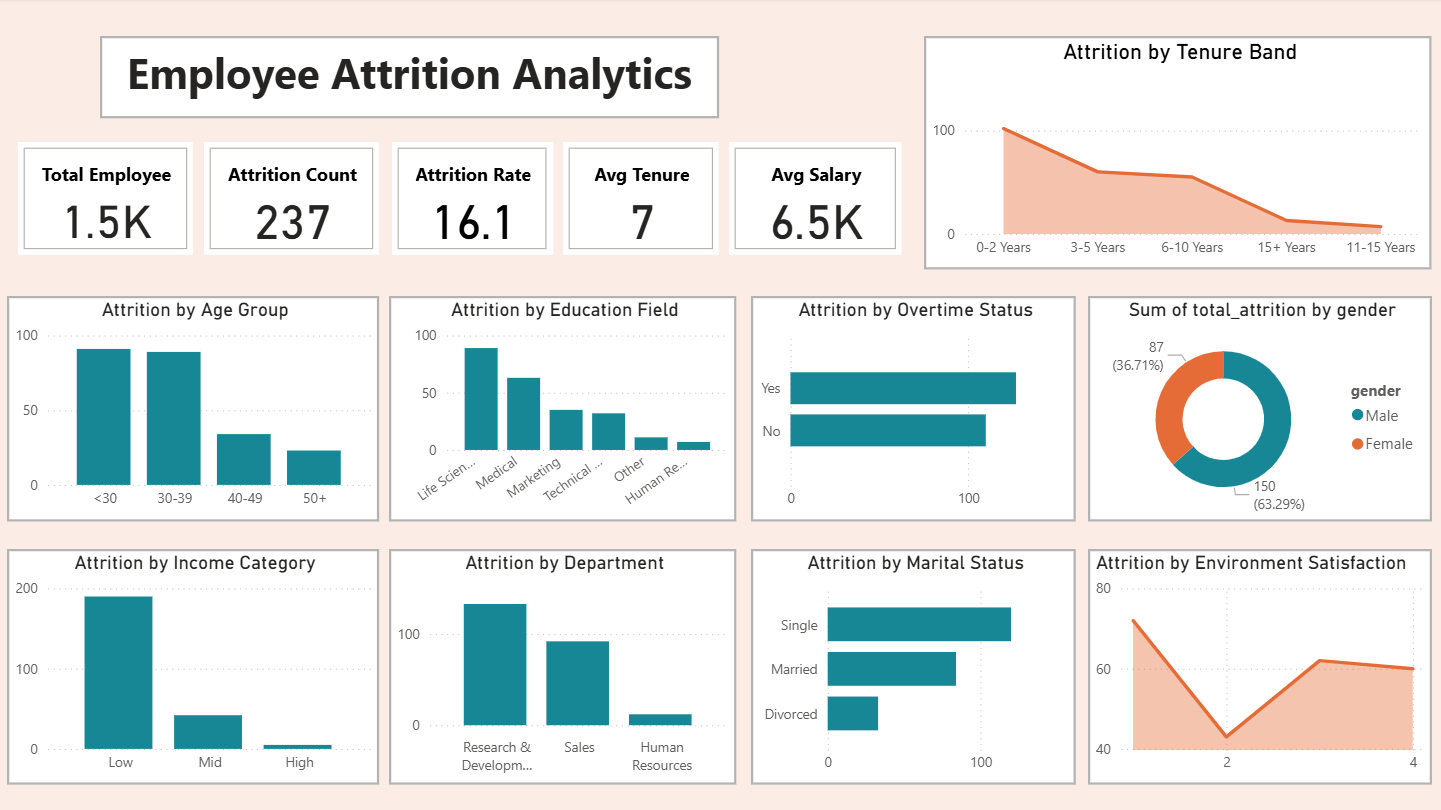

The dashboard page shown, as its layout file describes it:
{"tool":"powerbi","page":{"name":"Page 1","canvas":[1280,720],"ordinal":0},"visuals":[{"type":"cardVisual","fields":{"Data":["Sum(public vw_employee_attrition_kpis.total_employees)"]},"box":[18.6,127.7,155.2,100.2],"z":0},{"type":"cardVisual","fields":{"Data":["Sum(public vw_employee_attrition_kpis.total_attrition)"]},"box":[183.5,127.7,155.2,100.2],"z":1000},{"type":"cardVisual","fields":{"Data":["Avg(public vw_employee_attrition_kpis.attrition_rate)"]},"box":[350.2,127.7,142.8,100.2],"z":2000},{"type":"cardVisual","fields":{"Data":["Avg(public vw_employee_attrition_kpis.avg_tenure)"]},"box":[501.9,127.7,138.3,100.2],"z":3000},{"type":"clusteredColumnChart","title":"Attrition by Age Group","fields":{"Category":["public vw_attrition_by_agegroup.age_group"],"Y":["Sum(public vw_attrition_by_agegroup.total_attrition)"]},"box":[8.9,264.2,329.9,199.5],"z":4000},{"type":"clusteredColumnChart","title":"Attrition by Department","fields":{"Category":["public vw_attrition_by_department.department"],"Y":["Sum(public vw_attrition_by_department.total_attrition)"]},"box":[347.6,488.6,307.7,209.3],"z":5000},{"type":"clusteredColumnChart","title":"Attrition by Education Field","fields":{"Category":["public vw_attrition_by_educationfield.educationfield"],"Y":["Sum(public vw_attrition_by_educationfield.total_attrition)"]},"box":[347.6,264.2,307.7,199.5],"z":6000},{"type":"stackedAreaChart","title":"Attrition by Environment Satisfaction ","fields":{"Category":["public vw_attrition_by_environmentsatisfaction.environmentsatisfaction"],"Y":["Sum(public vw_attrition_by_environmentsatisfaction.total_attrition)"]},"box":[967.4,488.6,305,209.3],"z":7000},{"type":"clusteredColumnChart","title":"Attrition by Income Category","fields":{"Category":["public vw_attrition_by_incomecategory.income_category"],"Y":["Sum(public vw_attrition_by_incomecategory.total_attrition)"]},"box":[8.9,488.6,329.9,209.3],"z":8000},{"type":"clusteredBarChart","title":"Attrition by Marital Status","fields":{"Category":["public vw_attrition_by_maritalstatus.maritalstatus"],"Y":["Sum(public vw_attrition_by_maritalstatus.total_attrition)"]},"box":[668.6,488.6,288.2,209.3],"z":9000},{"type":"donutChart","fields":{"Category":["public vw_attrition_by_gender.gender"],"Y":["Sum(public vw_attrition_by_gender.total_attrition)"]},"box":[967.4,264.2,305,199.5],"z":10000},{"type":"clusteredBarChart","title":"Attrition by Overtime Status","fields":{"Category":["public vw_attrition_by_overtime.overtime"],"Y":["Sum(public vw_attrition_by_overtime.total_attrition)"]},"box":[668.6,264.2,288.2,199.5],"z":11000},{"type":"textbox","box":[91.3,33.7,548.9,72.7],"z":12000},{"type":"cardVisual","fields":{"Data":["Sum(public vw_employee_attrition_kpis.avg_monthly_income)"]},"box":[649.1,127.7,153.4,100.2],"z":13000},{"type":"areaChart","title":"Attrition by Tenure Band","fields":{"Category":["public vw_attrition_by_tenureband.tenure_band"],"Y":["Sum(public vw_attrition_by_tenureband.total_attrition)"]},"box":[822,33.7,450.4,207.5],"z":14000}]}

Visuals, with their boxes in screenshot pixels (x1, y1, x2, y2), scaled from the page's 1280x720 canvas onto the 1441x810 screenshot:
cardVisual - Sum(public vw_employee_attrition_kpis.total_employees): [21,144,196,256]
cardVisual - Sum(public vw_employee_attrition_kpis.total_attrition): [207,144,381,256]
cardVisual - Avg(public vw_employee_attrition_kpis.attrition_rate): [394,144,555,256]
cardVisual - Avg(public vw_employee_attrition_kpis.avg_tenure): [565,144,721,256]
"Attrition by Age Group" clusteredColumnChart: [10,297,381,522]
"Attrition by Department" clusteredColumnChart: [391,550,738,785]
"Attrition by Education Field" clusteredColumnChart: [391,297,738,522]
"Attrition by Environment Satisfaction " stackedAreaChart: [1089,550,1432,785]
"Attrition by Income Category" clusteredColumnChart: [10,550,381,785]
"Attrition by Marital Status" clusteredBarChart: [753,550,1077,785]
donutChart - public vw_attrition_by_gender.gender x Sum(public vw_attrition_by_gender.total_attrition): [1089,297,1432,522]
"Attrition by Overtime Status" clusteredBarChart: [753,297,1077,522]
textbox: [103,38,721,120]
cardVisual - Sum(public vw_employee_attrition_kpis.avg_monthly_income): [731,144,903,256]
"Attrition by Tenure Band" areaChart: [925,38,1432,271]
